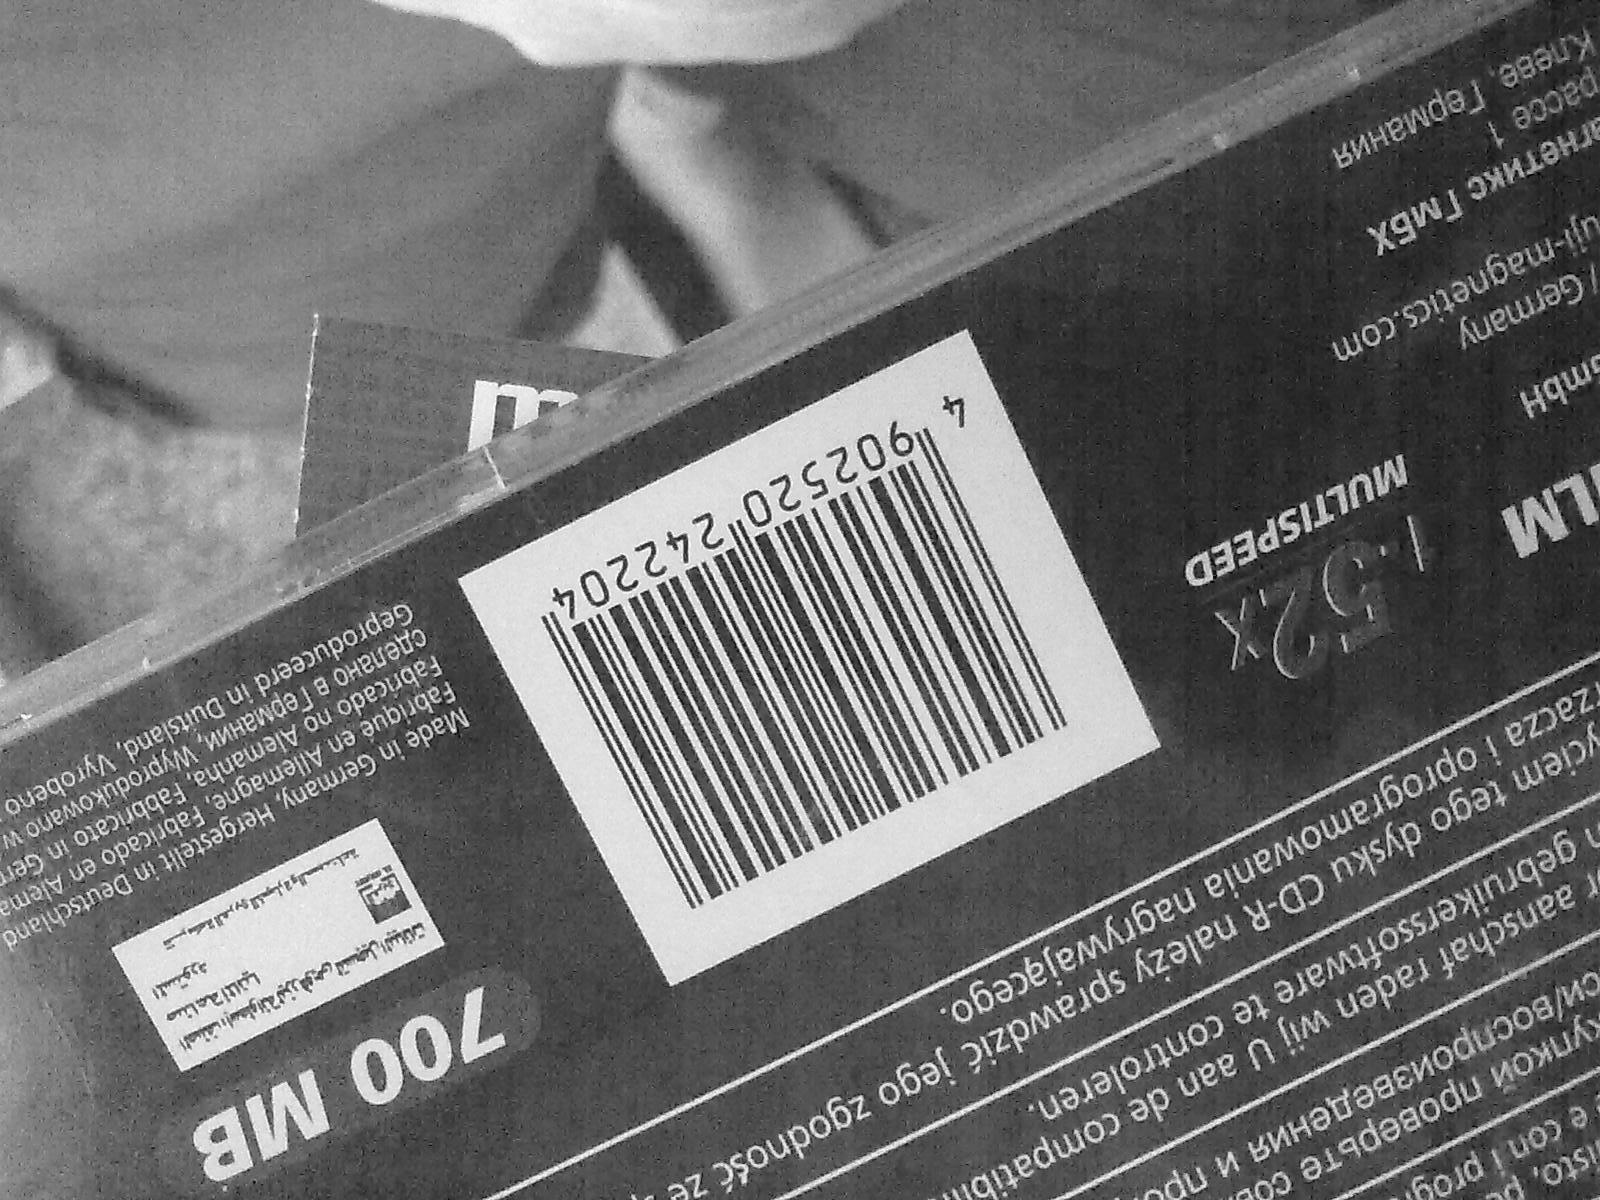Barcode: (531, 363, 1086, 907)
